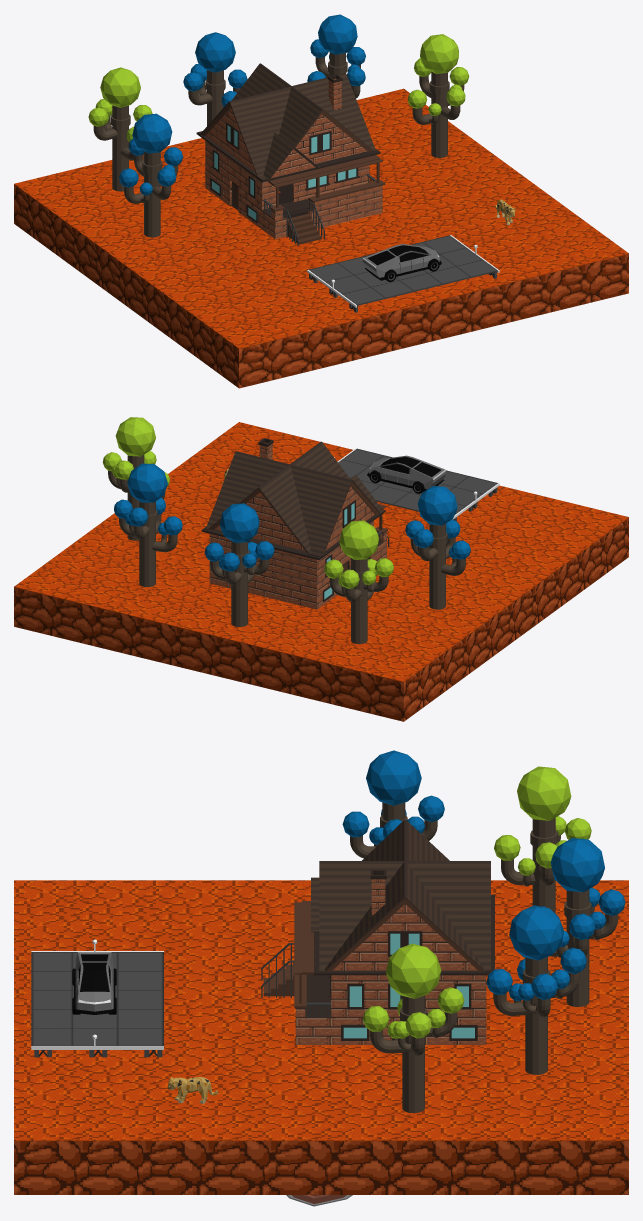
3 renders of one model, top to bottom at view 1: azimuth 30°, elevation 25°; view 2: azimuth 150°, elevation 25°; view 3: azimuth 270°, elevation 25°, orthographic. The views are drawn at different scales.
Visible parts, largest first — view 1: Cube.001, Cube.469, VEHICLES_CYBERTRUCK; view 2: Cube.001, Cube.469, VEHICLES_CYBERTRUCK; view 3: Cube.001, Cube.469, VEHICLES_CYBERTRUCK, ANIMAL_JAGUAR.
Boxes of the visible parts, x1,y1,x2,y2 form: Cube.001: (14, 14, 628, 388); Cube.469: (196, 63, 385, 245); VEHICLES_CYBERTRUCK: (362, 244, 441, 281); Cube.001: (14, 417, 628, 721); Cube.469: (201, 438, 389, 609); VEHICLES_CYBERTRUCK: (367, 455, 446, 493); Cube.001: (14, 750, 628, 1194); Cube.469: (261, 820, 494, 1044); VEHICLES_CYBERTRUCK: (72, 952, 116, 1014); ANIMAL_JAGUAR: (167, 1077, 218, 1103).
Size of the model in its own units: 4000 by 2380 by 4000.
32 materials, 5 textured.
